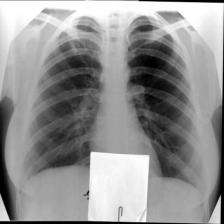tuberculosis: (19, 7, 211, 196)
